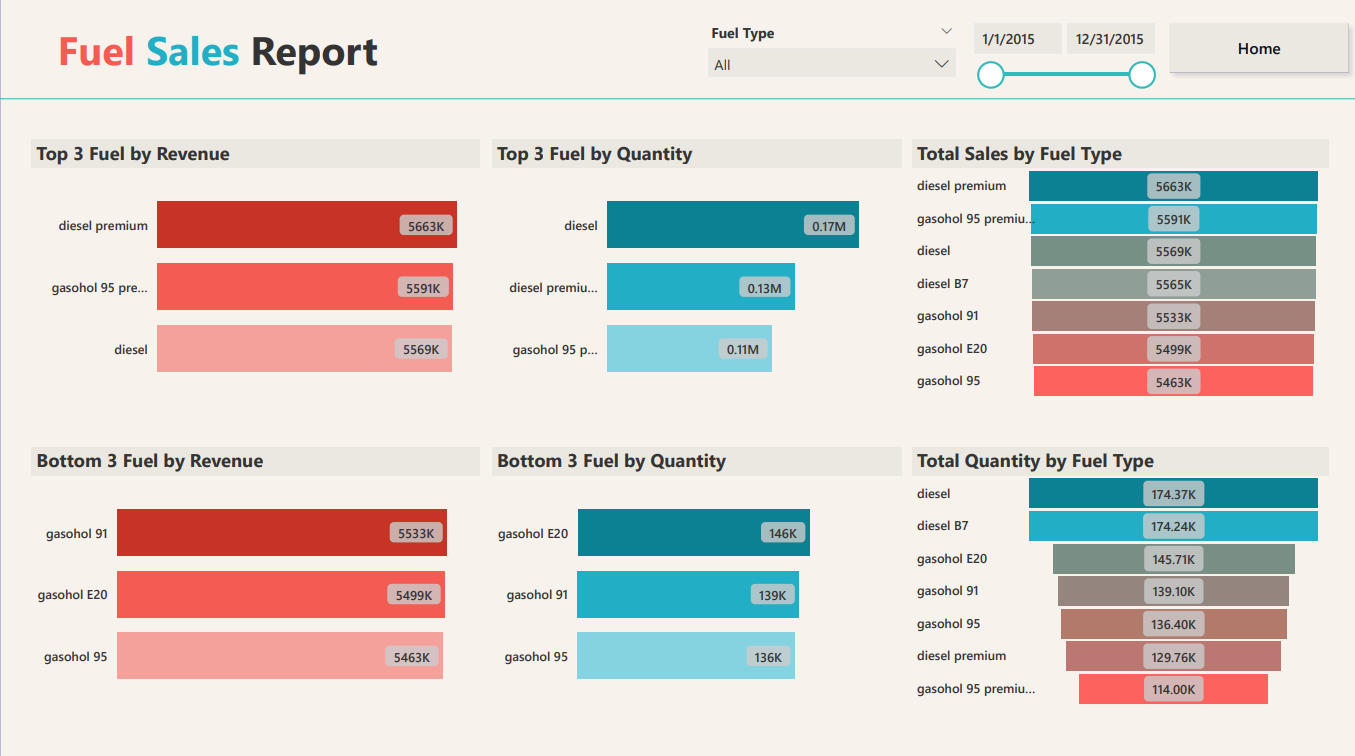

The page's visual inventory and layout, read from the dashboard file:
{"tool":"powerbi","page":{"name":"Best / Worst","canvas":[1280,720],"ordinal":1},"visuals":[{"type":"shape","box":[0,0,1280,720],"z":0},{"type":"barChart","title":"Top 3 Fuel by Revenue","fields":{"Category":["fuel_sales.type"],"Y":["Sum(fuel_sales.total_price)"]},"box":[30,136.2,422.5,250],"z":1},{"type":"pageNavigator","box":[1095,17.5,185,63.8],"z":2},{"type":"barChart","title":"Bottom 3 Fuel by Revenue","fields":{"Category":["fuel_sales.type"],"Y":["Sum(fuel_sales.total_price)"]},"box":[30,426.2,422.5,250],"z":3},{"type":"barChart","title":"Top 3 Fuel by Quantity","fields":{"Category":["fuel_sales.type"],"Y":["Sum(fuel_sales.quantity)"]},"box":[463.8,136.2,386.2,250],"z":4},{"type":"barChart","title":"Bottom 3 Fuel by Quantity","fields":{"Category":["fuel_sales.type"],"Y":["Sum(fuel_sales.quantity)"]},"box":[463.8,426.2,386.2,250],"z":5},{"type":"funnel","title":"Total Sales by Fuel Type","fields":{"Y":["Sum(fuel_sales.total_price)"],"Category":["fuel_sales.type"]},"box":[860,136.2,392.5,250],"z":6},{"type":"funnel","title":"Total Quantity by Fuel Type","fields":{"Category":["fuel_sales.type"],"Y":["Sum(fuel_sales.quantity)"]},"box":[860,426.2,392.5,250],"z":7},{"type":"textbox","box":[50,21.2,347.5,66.2],"z":8},{"type":"shape","box":[0,91.2,1280,12.5],"z":9},{"type":"slicer","fields":{"Values":["fuel_sales.type"]},"box":[657.5,21.2,253.8,62.5],"z":10},{"type":"slicer","fields":{"Values":["fuel_sales.order_date"]},"box":[906.2,16.2,191.2,73.8],"z":11}]}

Visuals, with their boxes in screenshot pixels (x1, y1, x2, y2), scaled from the page's 1280x720 canvas onto the 1355x756 screenshot:
shape: detection(0, 0, 1354, 755)
"Top 3 Fuel by Revenue" barChart: detection(32, 143, 479, 406)
pageNavigator: detection(1159, 18, 1354, 85)
"Bottom 3 Fuel by Revenue" barChart: detection(32, 448, 479, 710)
"Top 3 Fuel by Quantity" barChart: detection(491, 143, 900, 406)
"Bottom 3 Fuel by Quantity" barChart: detection(491, 448, 900, 710)
"Total Sales by Fuel Type" funnel: detection(910, 143, 1326, 406)
"Total Quantity by Fuel Type" funnel: detection(910, 448, 1326, 710)
textbox: detection(53, 22, 421, 92)
shape: detection(0, 96, 1354, 109)
slicer - fuel_sales.type: detection(696, 22, 965, 88)
slicer - fuel_sales.order_date: detection(959, 17, 1162, 94)
